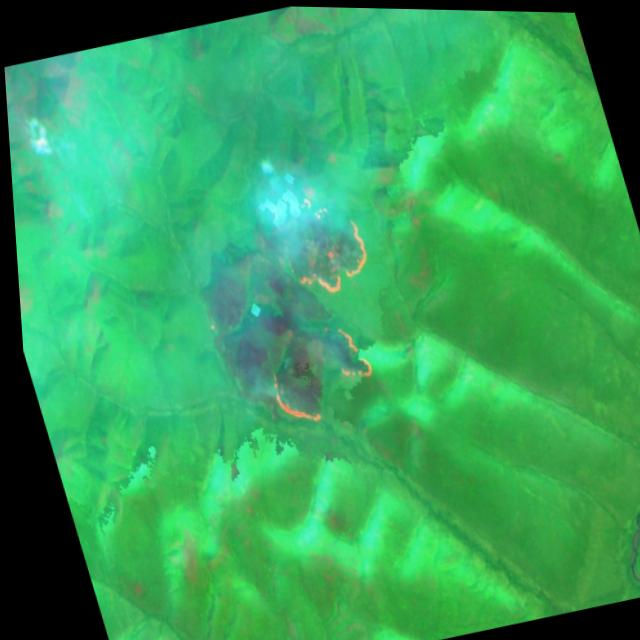fire: (213, 198, 419, 434)
